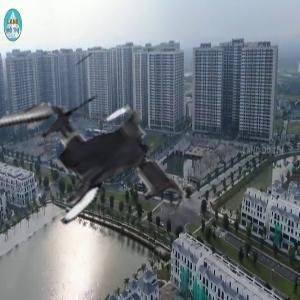drone: (7, 66, 196, 255)
